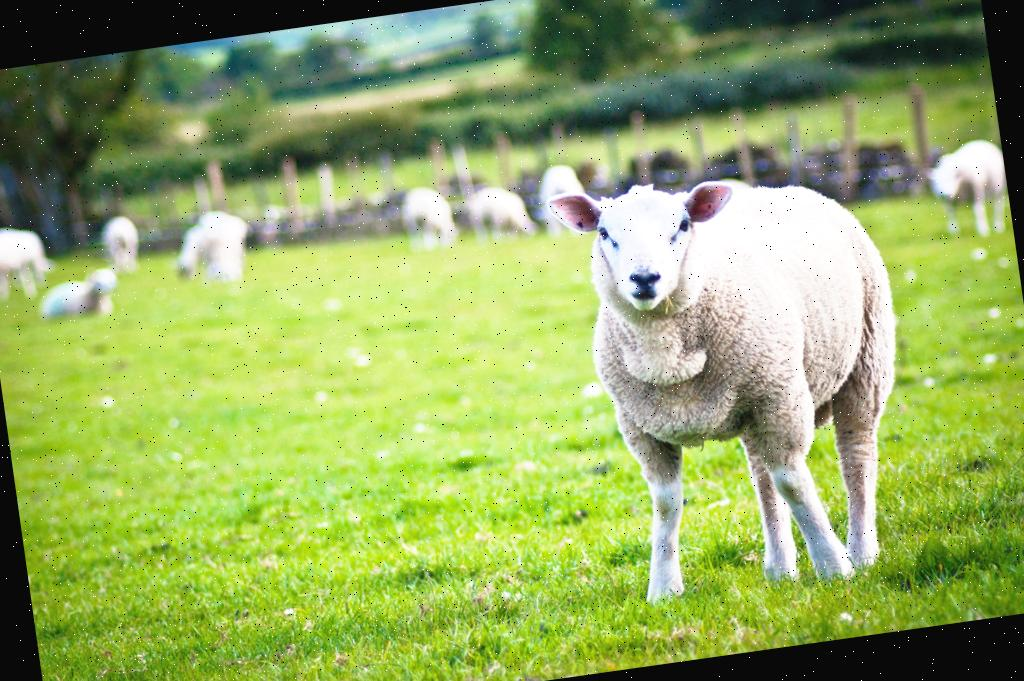Sheep: (544, 147, 930, 621), (915, 136, 1014, 245), (166, 205, 254, 288), (32, 262, 128, 331), (390, 180, 465, 258), (0, 221, 65, 307), (461, 178, 536, 247), (95, 212, 147, 276)
